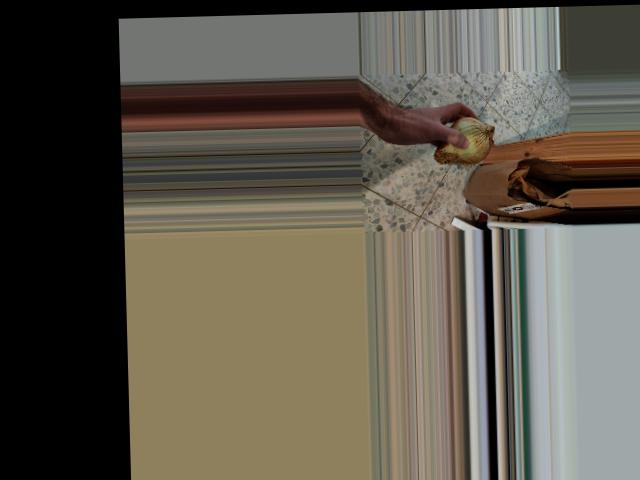onion: (428, 109, 497, 169)
